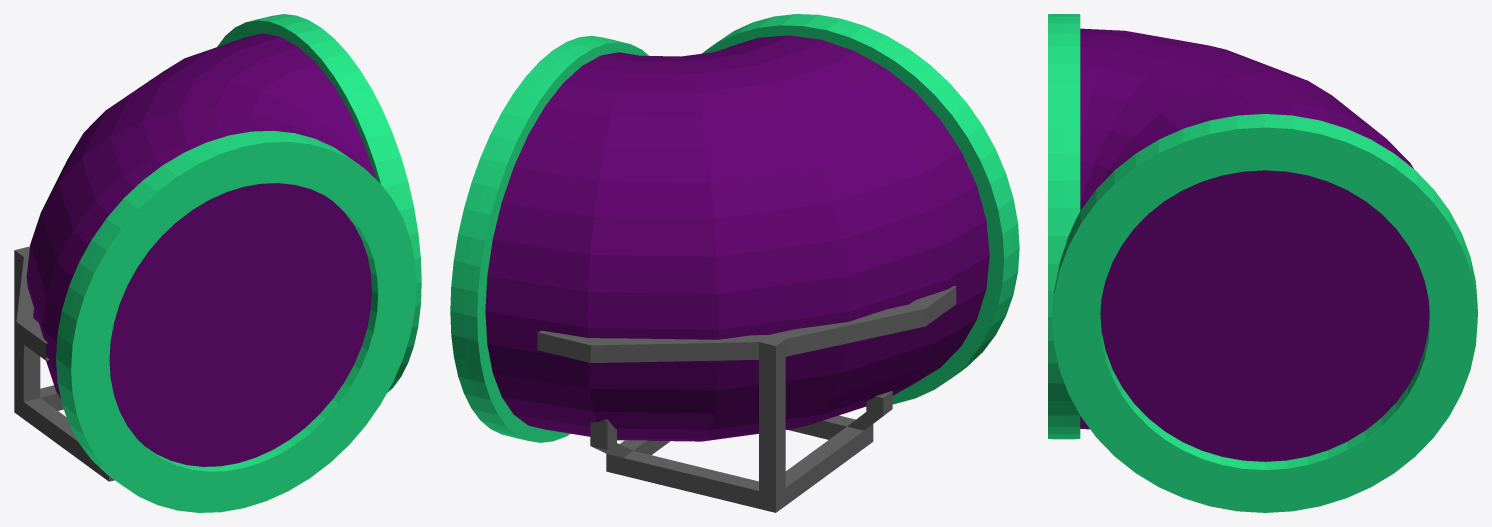
Rendered from tube corner attached.fbx.
3 views of the same model, side by side, from view 1: azimuth 30°, elevation 25°; view 2: azimuth 150°, elevation 25°; view 3: azimuth 270°, elevation 25° (orthographic). The views are drawn at different scales.
Parts seen in each view (by area): view 1: Cylinder.001, Torus.002, Torus.001, block; view 2: Cylinder.001, block, Torus.001, Torus.002; view 3: Cylinder.001, Torus.001, Torus.002.
Boxes of the visible parts, box(x1,y1,x2,y2) form: Cylinder.001: box(26, 33, 376, 466); Torus.002: box(56, 130, 416, 512); Torus.001: box(217, 14, 421, 392); block: box(14, 246, 114, 481); Cylinder.001: box(485, 35, 989, 441); block: box(537, 286, 956, 512); Torus.001: box(450, 35, 648, 442); Torus.002: box(702, 14, 1019, 404); Cylinder.001: box(1080, 28, 1429, 461); Torus.001: box(1052, 114, 1477, 512); Torus.002: box(1048, 14, 1080, 439).
Bounding box in the file's own units: 107 × 105 × 106.
